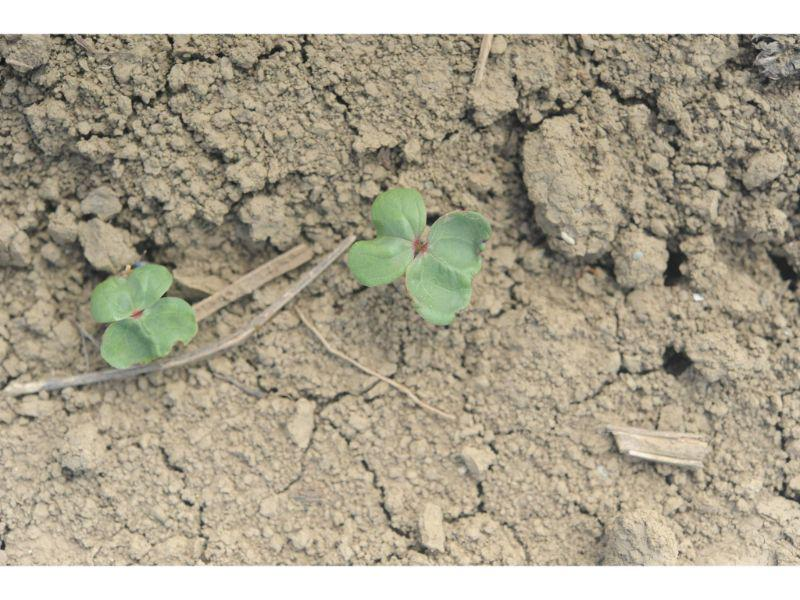cotton: (352, 189, 492, 327), (90, 261, 195, 371)
